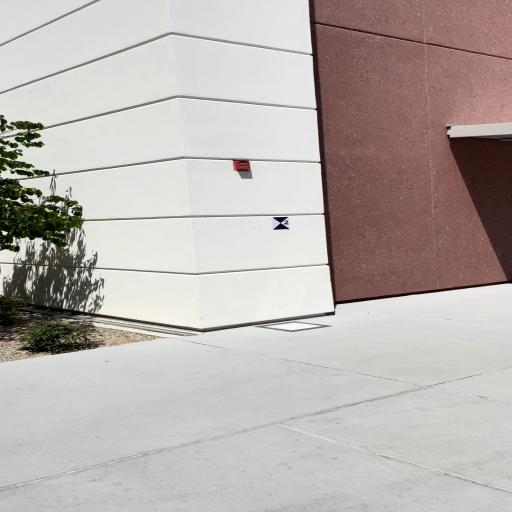target2: (270, 217, 290, 230)
